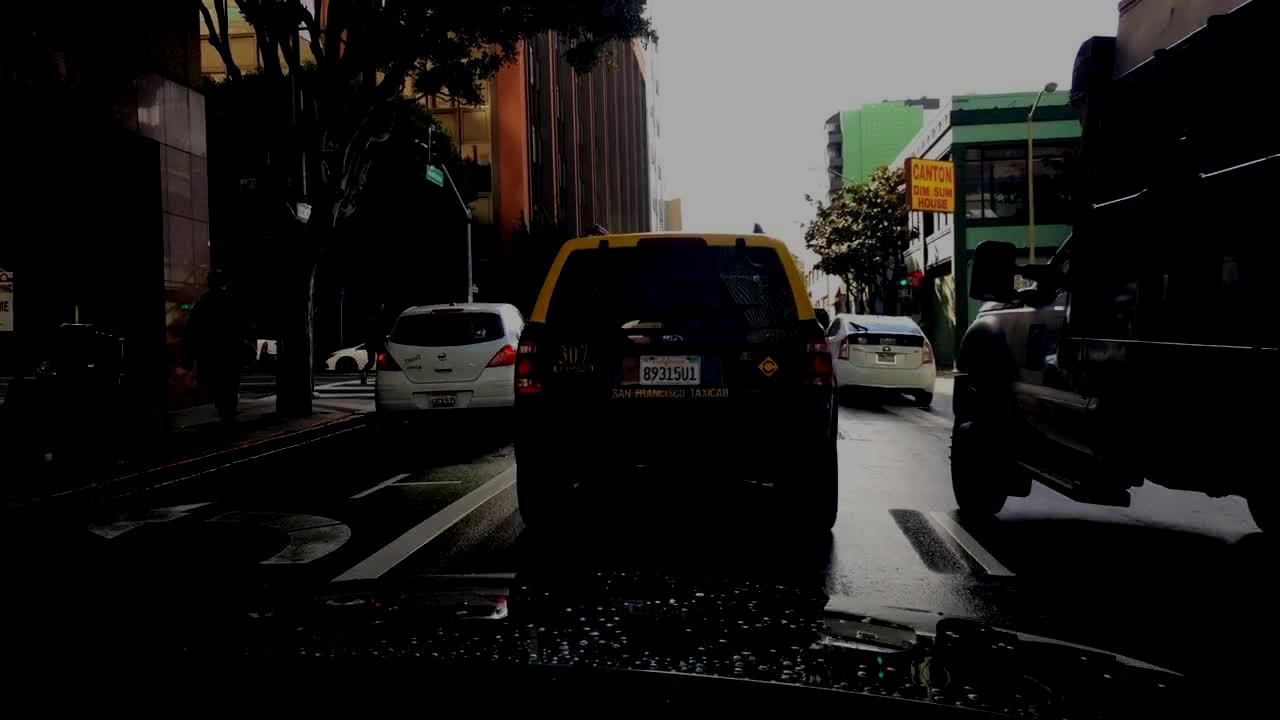ford: (649, 331, 688, 353)
